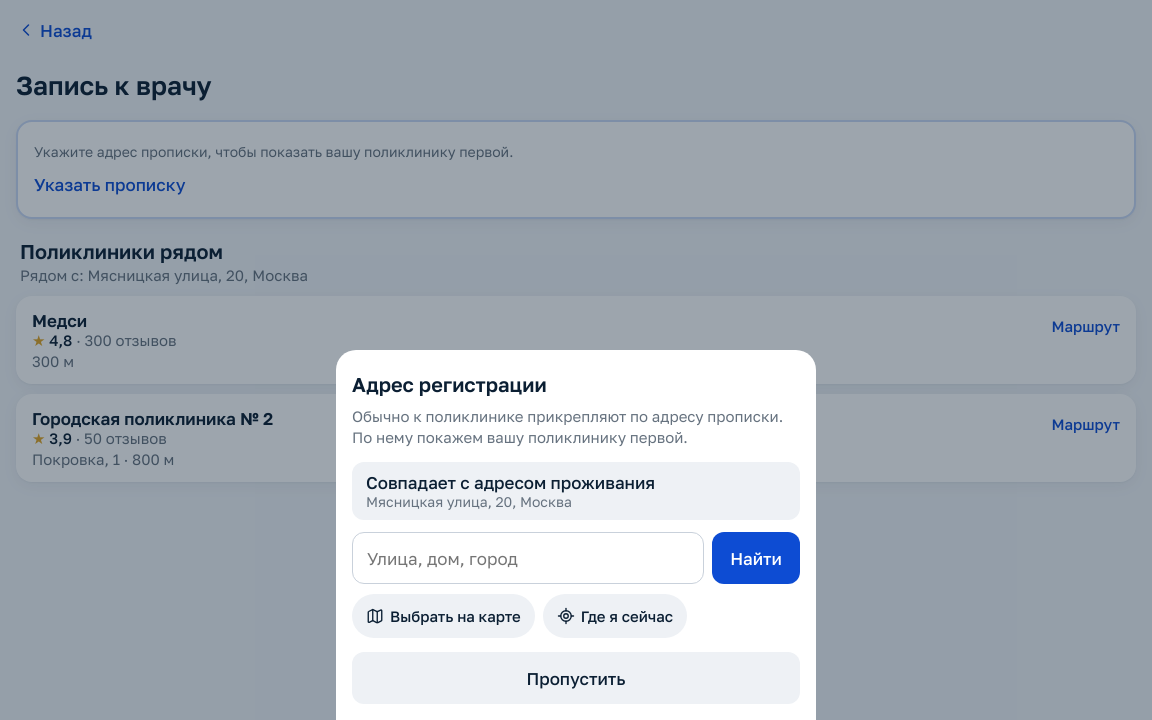
Scenario: ClinicsPage › в первый раз просит прописку; «совпадает с адресом проживания» сохраняет домашний адрес
Click the button "Совпадает с адресом проживания Мясницкая улица, 20, Москва".
click(576, 491)  # box [352,462,800,520]
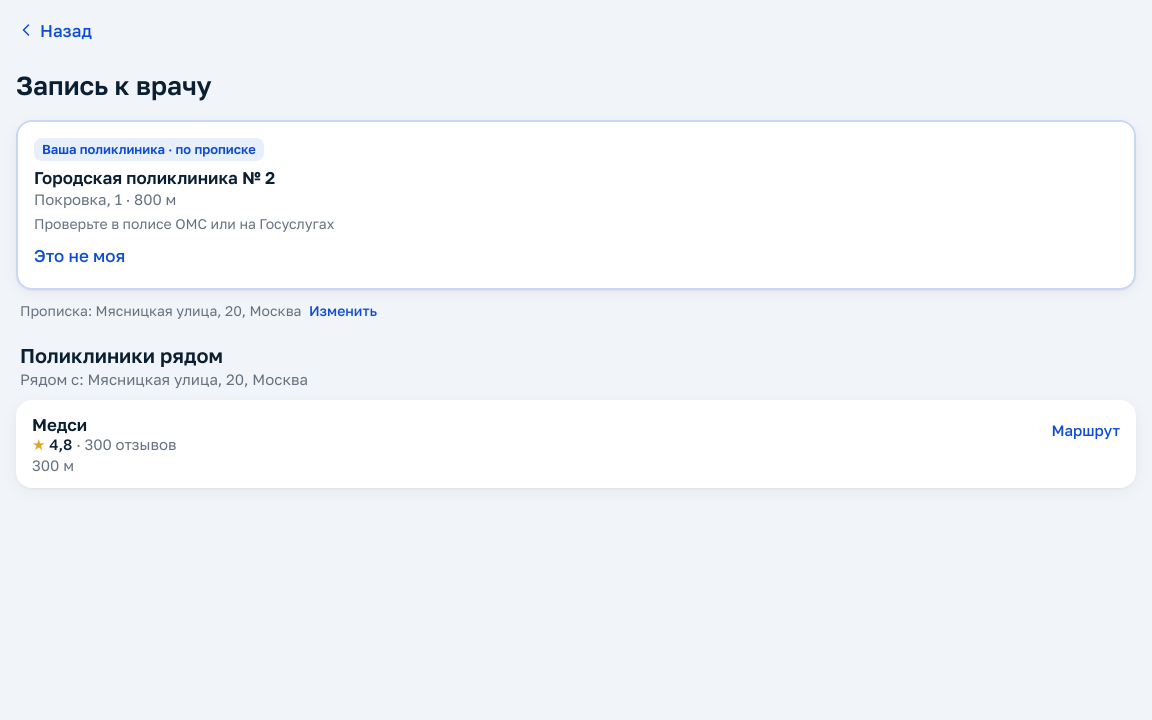
Now the heading "Адрес регистрации" is gone
Now the text "Ваша поликлиника · по прописке" is shown, box [34,138,264,161]
Now the text "Проверьте в полисе ОМС или на Госуслугах" is shown, box [34,215,334,232]
